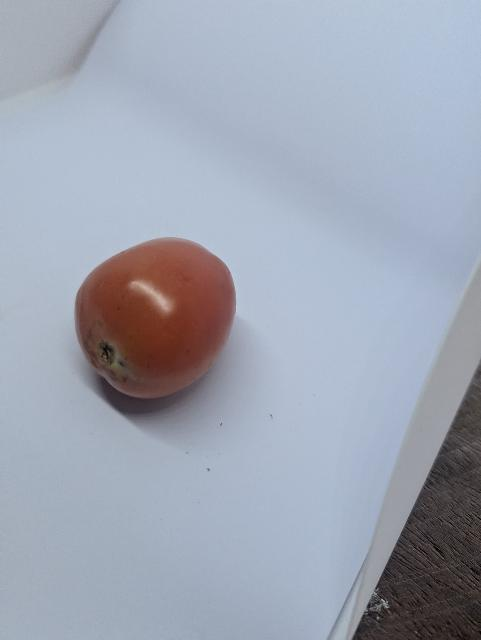red: (55, 215, 249, 413)
